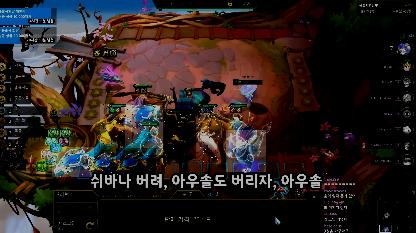1_aoshin: (116, 148, 156, 174), (90, 151, 120, 177)
2_aoshin: (125, 105, 163, 155), (52, 147, 94, 177)
2_aurelionsol: (226, 130, 266, 172)
3_bard: (100, 104, 132, 146)
3_joy: (198, 104, 220, 164)
3_soraka: (228, 104, 242, 148)
3_terra: (164, 109, 196, 159)
3_yasuo: (129, 84, 153, 108)
